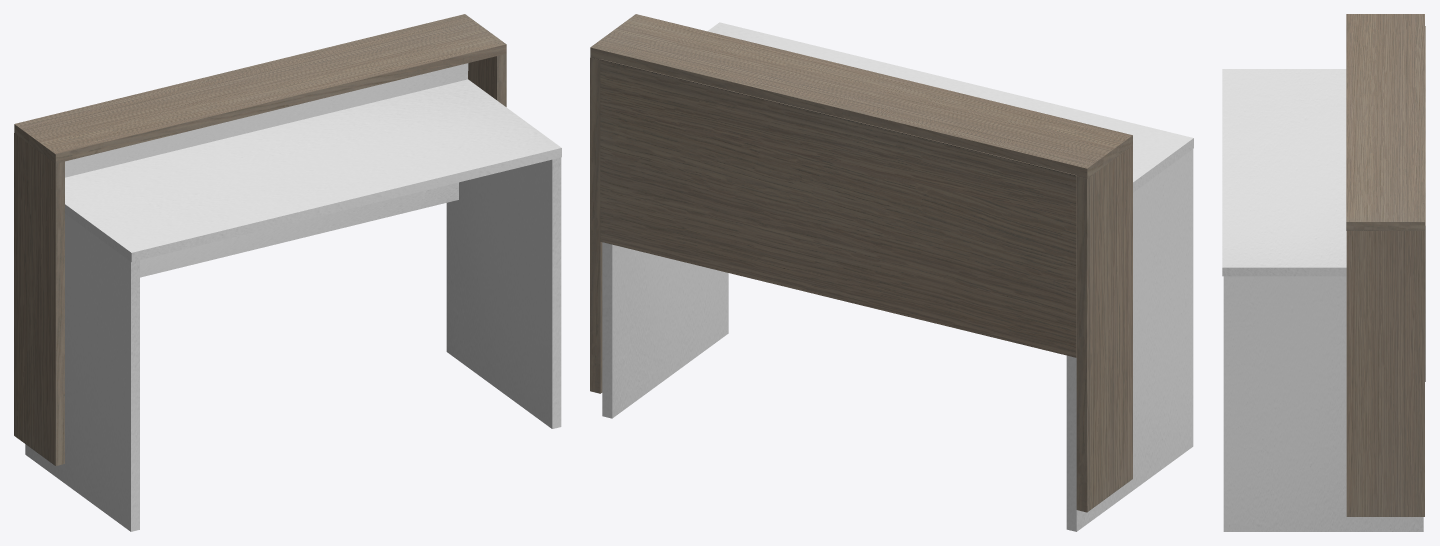
The model's file is escritorio.obj.
3 views of the same model, side by side, from view 1: azimuth 30°, elevation 25°; view 2: azimuth 150°, elevation 25°; view 3: azimuth 270°, elevation 25° (orthographic). The views are drawn at different scales.
Parts seen in each view (by area): view 1: Cube.001, Cube.002; view 2: Cube.002, Cube.001; view 3: Cube.001, Cube.002.
Boxes of the visible parts, bbox=[...] form: Cube.001: bbox=[25, 63, 561, 531]; Cube.002: bbox=[14, 14, 506, 465]; Cube.002: bbox=[590, 14, 1132, 512]; Cube.001: bbox=[602, 22, 1193, 531]; Cube.001: bbox=[1222, 69, 1423, 531]; Cube.002: bbox=[1346, 14, 1425, 516].
Bounding box in the file's own units: 5.03 × 3.55 × 2.07.
